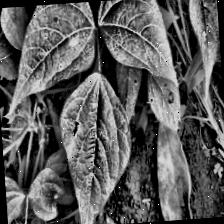ALS: (45, 86, 135, 224), (1, 2, 95, 111)
